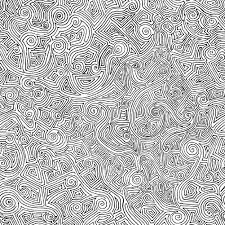maze: (1, 1, 225, 225)
